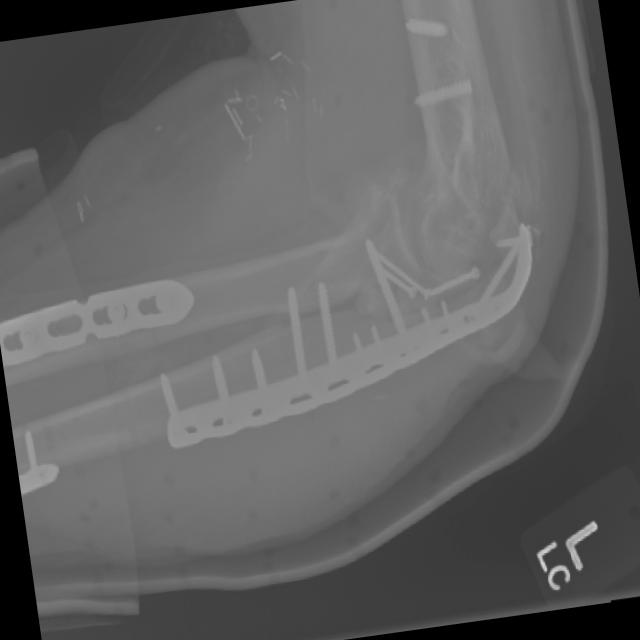elbow positive: (288, 210, 372, 324), (474, 160, 537, 266)
